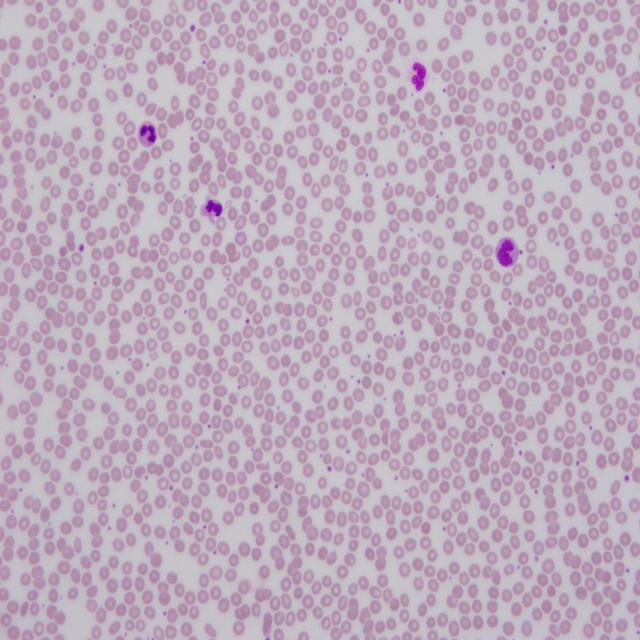cell: (139, 121, 156, 147)
